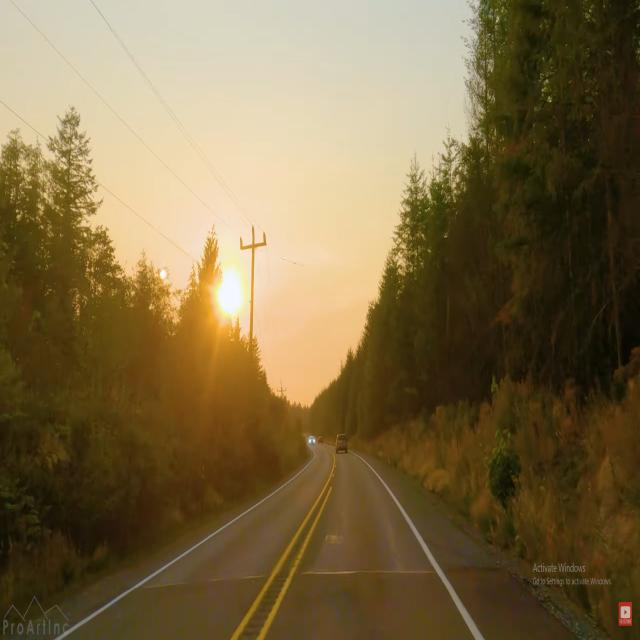sun: (216, 258, 245, 315)
